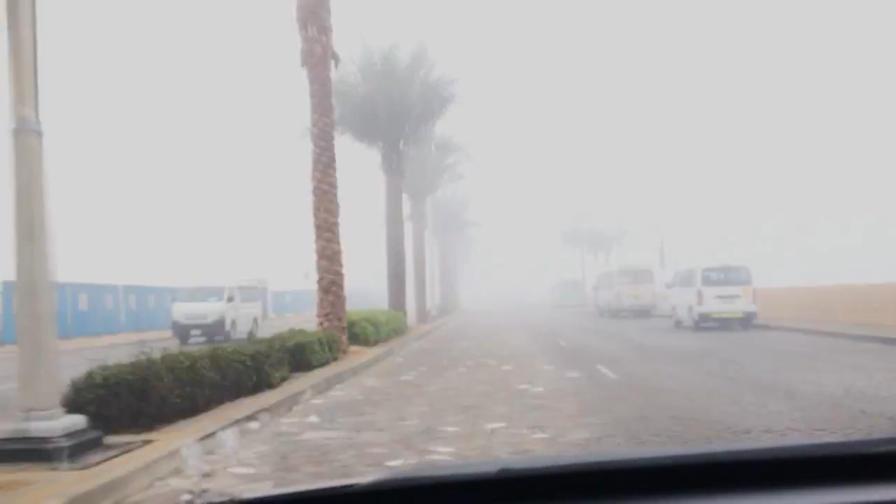bus: (662, 264, 760, 331), (590, 264, 656, 318), (548, 278, 586, 306)
car: (165, 279, 271, 344)
